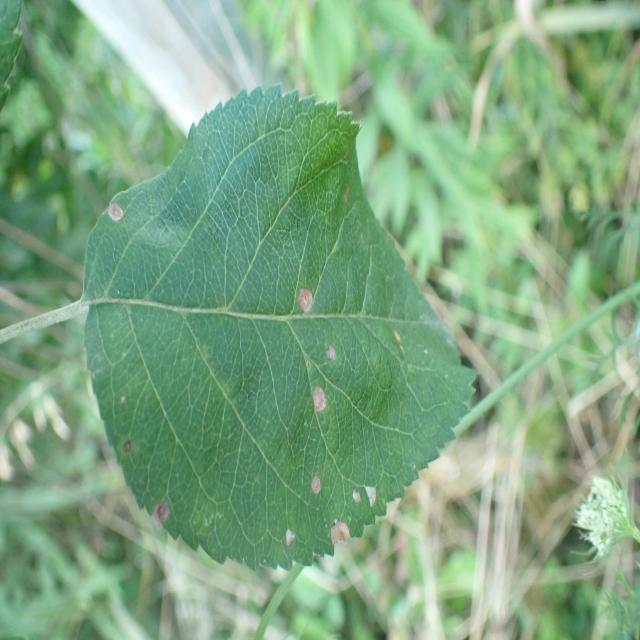Black Rot: (99, 182, 135, 246), (142, 481, 170, 554), (294, 461, 332, 513), (283, 276, 320, 328), (339, 472, 386, 510), (306, 369, 332, 432), (322, 514, 355, 558), (319, 337, 349, 374), (282, 515, 296, 552)
